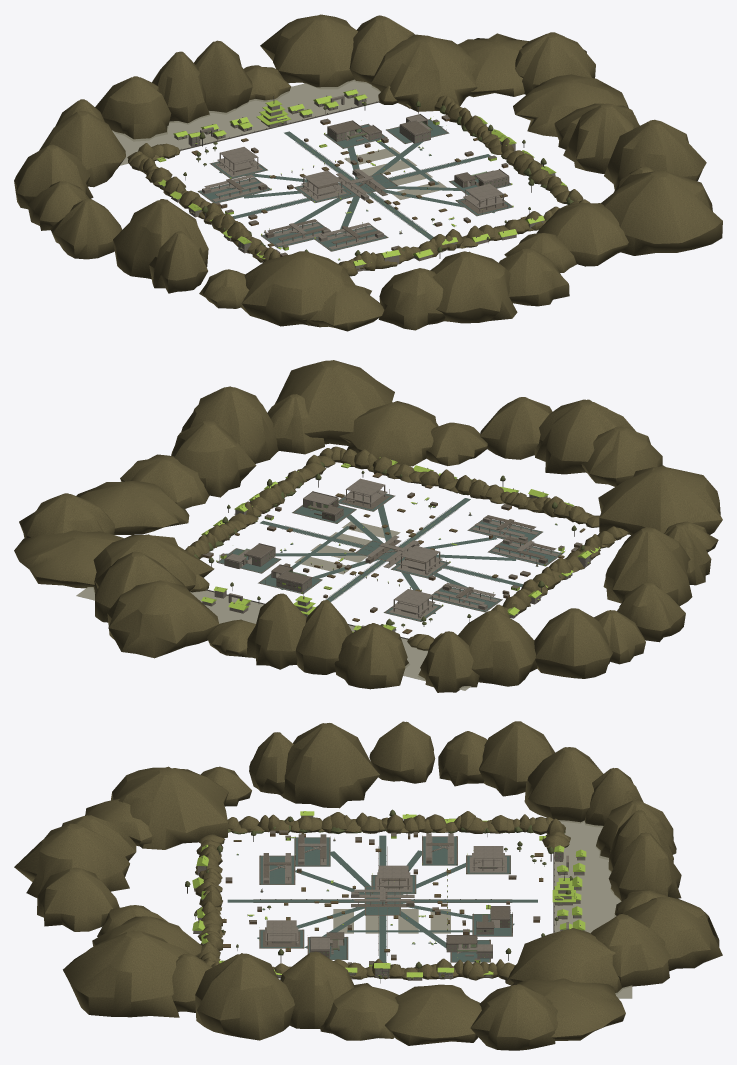
Rendered from tanada-lod0.glb.
3 renders of one model, top to bottom at view 1: azimuth 30°, elevation 25°; view 2: azimuth 150°, elevation 25°; view 3: azimuth 270°, elevation 25°, orthographic. The views are drawn at different scales.
Parts seen in each view (by area): view 1: HB_tanada_LOD0_terrain, HB_tanada_LOD0_wall, HB_tanada_LOD0_road, HB_tanada_LOD0_water, HB_tanada_LOD0_wall_alt, HB_tanada_LOD0_accent, HB_tanada_LOD0_obstacle, HB_tanada_LOD0_natural, HB_tanada_LOD0_trim; view 2: HB_tanada_LOD0_terrain, HB_tanada_LOD0_wall, HB_tanada_LOD0_road, HB_tanada_LOD0_wall_alt, HB_tanada_LOD0_water, HB_tanada_LOD0_accent, HB_tanada_LOD0_obstacle, HB_tanada_LOD0_natural, HB_tanada_LOD0_trim; view 3: HB_tanada_LOD0_terrain, HB_tanada_LOD0_road, HB_tanada_LOD0_wall, HB_tanada_LOD0_water, HB_tanada_LOD0_wall_alt, HB_tanada_LOD0_accent, HB_tanada_LOD0_natural, HB_tanada_LOD0_obstacle, HB_tanada_LOD0_trim.
Boxes of the visible parts, left/top/right/bottom form: HB_tanada_LOD0_terrain: left=14, top=14, right=722, bottom=331; HB_tanada_LOD0_wall: left=160, top=93, right=555, bottom=271; HB_tanada_LOD0_road: left=197, top=119, right=511, bottom=260; HB_tanada_LOD0_water: left=112, top=79, right=446, bottom=199; HB_tanada_LOD0_wall_alt: left=171, top=89, right=555, bottom=271; HB_tanada_LOD0_accent: left=157, top=89, right=566, bottom=265; HB_tanada_LOD0_obstacle: left=191, top=105, right=526, bottom=256; HB_tanada_LOD0_natural: left=158, top=101, right=573, bottom=255; HB_tanada_LOD0_trim: left=160, top=94, right=543, bottom=261; HB_tanada_LOD0_terrain: left=14, top=360, right=722, bottom=692; HB_tanada_LOD0_wall: left=202, top=463, right=590, bottom=631; HB_tanada_LOD0_road: left=217, top=494, right=563, bottom=630; HB_tanada_LOD0_wall_alt: left=203, top=459, right=591, bottom=629; HB_tanada_LOD0_water: left=76, top=521, right=471, bottom=690; HB_tanada_LOD0_accent: left=201, top=457, right=600, bottom=632; HB_tanada_LOD0_obstacle: left=203, top=472, right=585, bottom=634; HB_tanada_LOD0_natural: left=194, top=462, right=584, bottom=643; HB_tanada_LOD0_trim: left=206, top=474, right=591, bottom=639; HB_tanada_LOD0_terrain: left=14, top=721, right=722, bottom=1050; HB_tanada_LOD0_road: left=227, top=835, right=540, bottom=962; HB_tanada_LOD0_wall: left=193, top=815, right=585, bottom=980; HB_tanada_LOD0_water: left=333, top=820, right=632, bottom=998; HB_tanada_LOD0_wall_alt: left=193, top=811, right=584, bottom=980; HB_tanada_LOD0_accent: left=192, top=811, right=586, bottom=978; HB_tanada_LOD0_natural: left=185, top=809, right=572, bottom=978; HB_tanada_LOD0_obstacle: left=222, top=832, right=543, bottom=964; HB_tanada_LOD0_trim: left=187, top=833, right=576, bottom=983.
Bounding box in the file's own units: 642 × 63.68 × 645.
Materials: 11 (8 with a texture image).
